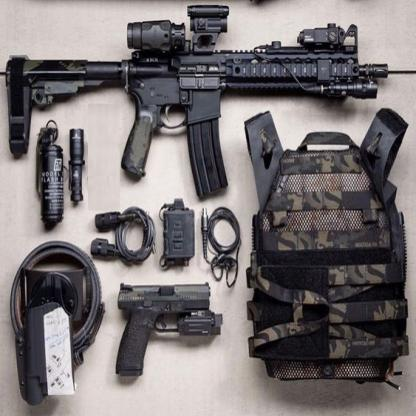Grenade: (35, 118, 68, 232)
Gun: (5, 3, 389, 200)
Pistol: (115, 279, 224, 380)
